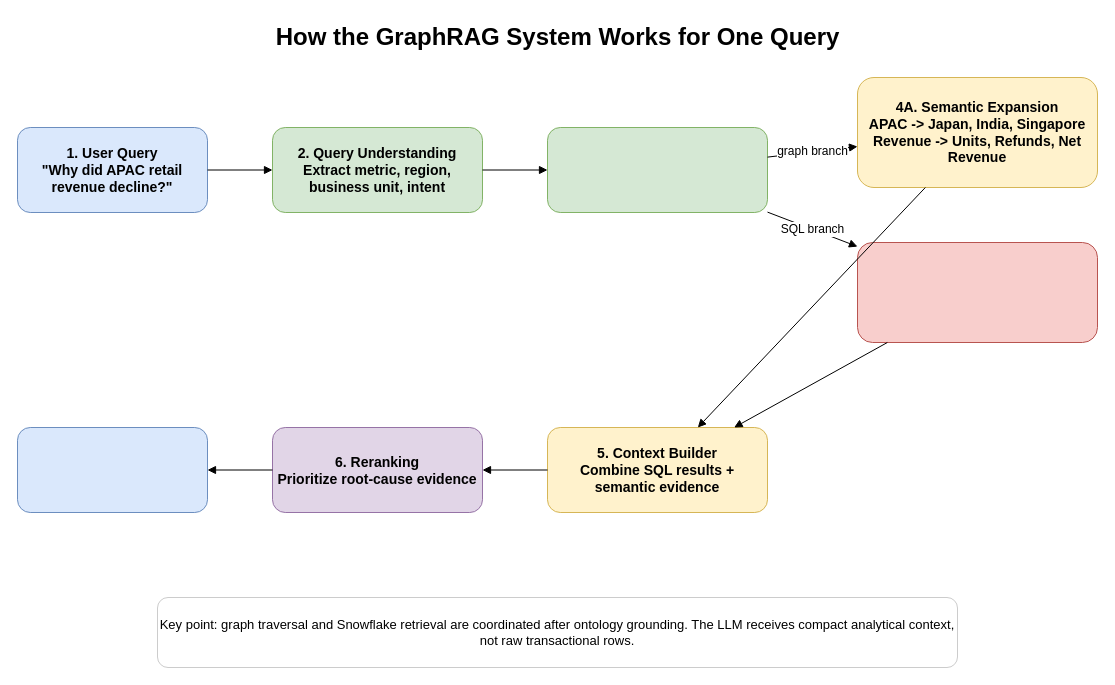
This 1115x685 diagram has some shape labels left out. Each missing label, with the centre of its shape:
3. Ontology Grounding Map text mentions to ontology concepts: point 657,169
4B. Structured Retrieval Generate governed Snowflake SQL from ontology mappings: point 977,292
7. Grounded Response Explain decline with metrics and relationships: point 112,469
